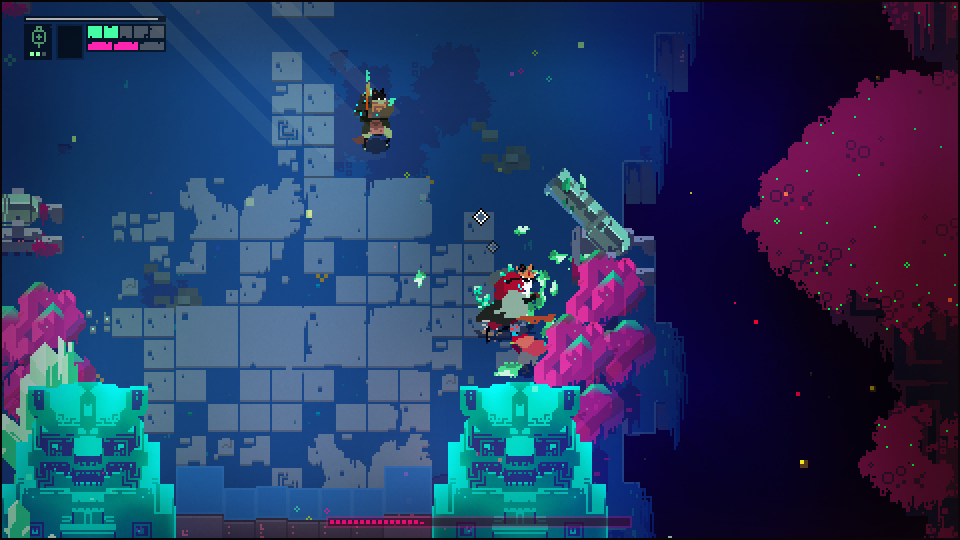hanged_man: (484, 258, 552, 336)
player: (505, 325, 547, 367)
